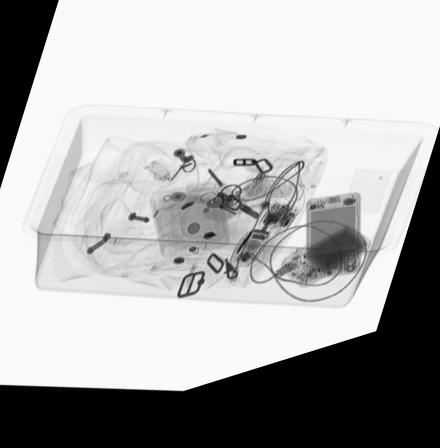Powerbank: (280, 247, 369, 305)
